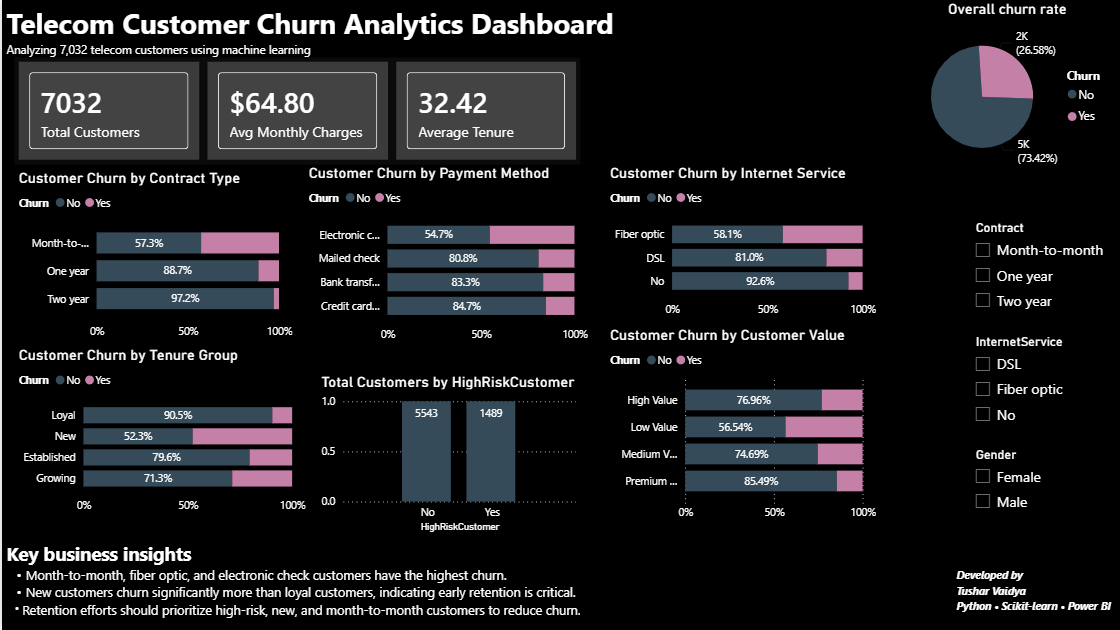

The page's visual inventory and layout, read from the dashboard file:
{"tool":"powerbi","page":{"name":"Page 1","canvas":[1280,720],"ordinal":0},"visuals":[{"type":"textbox","box":[0,0,935,98.8],"z":1000},{"type":"cardVisual","fields":{"Data":["Customer Churn.Total Customers"]},"box":[13.8,65,216.2,122.5],"z":2000},{"type":"cardVisual","fields":{"Data":["Customer Churn.Average Monthly Charges"]},"box":[230,65,216.2,122.5],"z":3000},{"type":"cardVisual","fields":{"Data":["Customer Churn.Average Tenure"]},"box":[446.2,65,215,122.5],"z":4000},{"type":"pieChart","title":"Overall churn rate","fields":{"Y":["Customer Churn.Total Customers"],"Category":["Customer Churn.Churn"]},"box":[1018.8,0,261.2,202.5],"z":5000},{"type":"hundredPercentStackedBarChart","title":"Customer Churn by Contract Type","fields":{"Y":["Customer Churn.Total Customers"],"Series":["Customer Churn.Churn"],"Category":["Customer Churn.Contract"]},"box":[13.8,192.5,322.5,203.8],"z":6000},{"type":"hundredPercentStackedBarChart","title":"Customer Churn by Internet Service","fields":{"Y":["Customer Churn.Total Customers"],"Series":["Customer Churn.Churn"],"Category":["Customer Churn.InternetService"]},"box":[690,187.5,313.8,185],"z":7000},{"type":"hundredPercentStackedBarChart","title":"Customer Churn by Payment Method","fields":{"Y":["Customer Churn.Total Customers"],"Series":["Customer Churn.Churn"],"Category":["Customer Churn.PaymentMethod"]},"box":[346.2,187.5,328.8,213.8],"z":8000},{"type":"hundredPercentStackedBarChart","title":"Customer Churn by Tenure Group","fields":{"Y":["Customer Churn.Total Customers"],"Series":["Customer Churn.Churn"],"Category":["Customer Churn.TenureGroup"]},"box":[13.8,396.2,337.5,200],"z":9000},{"type":"slicer","fields":{"Values":["Customer Churn.Contract"]},"box":[1100,247.5,180,125],"z":10000},{"type":"slicer","fields":{"Values":["Customer Churn.InternetService"]},"box":[1100,377.5,180,118.8],"z":11000},{"type":"slicer","fields":{"Values":["Customer Churn.gender"]},"box":[1100,505,180,120],"z":12000},{"type":"hundredPercentStackedBarChart","title":"Customer Churn by Customer Value ","fields":{"Category":["Customer Churn.CustomerValue"],"Y":["Customer Churn.Total Customers"],"Series":["Customer Churn.Churn"]},"box":[690,372.5,313.8,231.2],"z":13000},{"type":"columnChart","fields":{"Category":["Customer Churn.HighRiskCustomer"],"Y":["Customer Churn.Total Customers"]},"box":[360,425,301.2,187.5],"z":14000},{"type":"textbox","box":[0,612.5,1018.8,107.5],"z":15000},{"type":"textbox","box":[1086.2,642.5,193.8,77.5],"z":16000}]}

Visuals, with their boxes in screenshot pixels (x1, y1, x2, y2), scaled from the page's 1280x720 canvas onto the 1120x630 screenshot:
textbox: 0/0/818/86
cardVisual - Customer Churn.Total Customers: 12/57/201/164
cardVisual - Customer Churn.Average Monthly Charges: 201/57/390/164
cardVisual - Customer Churn.Average Tenure: 390/57/579/164
"Overall churn rate" pieChart: 891/0/1119/177
"Customer Churn by Contract Type" hundredPercentStackedBarChart: 12/168/294/347
"Customer Churn by Internet Service" hundredPercentStackedBarChart: 604/164/878/326
"Customer Churn by Payment Method" hundredPercentStackedBarChart: 303/164/591/351
"Customer Churn by Tenure Group" hundredPercentStackedBarChart: 12/347/307/522
slicer - Customer Churn.Contract: 962/217/1119/326
slicer - Customer Churn.InternetService: 962/330/1119/434
slicer - Customer Churn.gender: 962/442/1119/547
"Customer Churn by Customer Value " hundredPercentStackedBarChart: 604/326/878/528
columnChart - Customer Churn.HighRiskCustomer x Customer Churn.Total Customers: 315/372/579/536
textbox: 0/536/891/629
textbox: 950/562/1119/629
